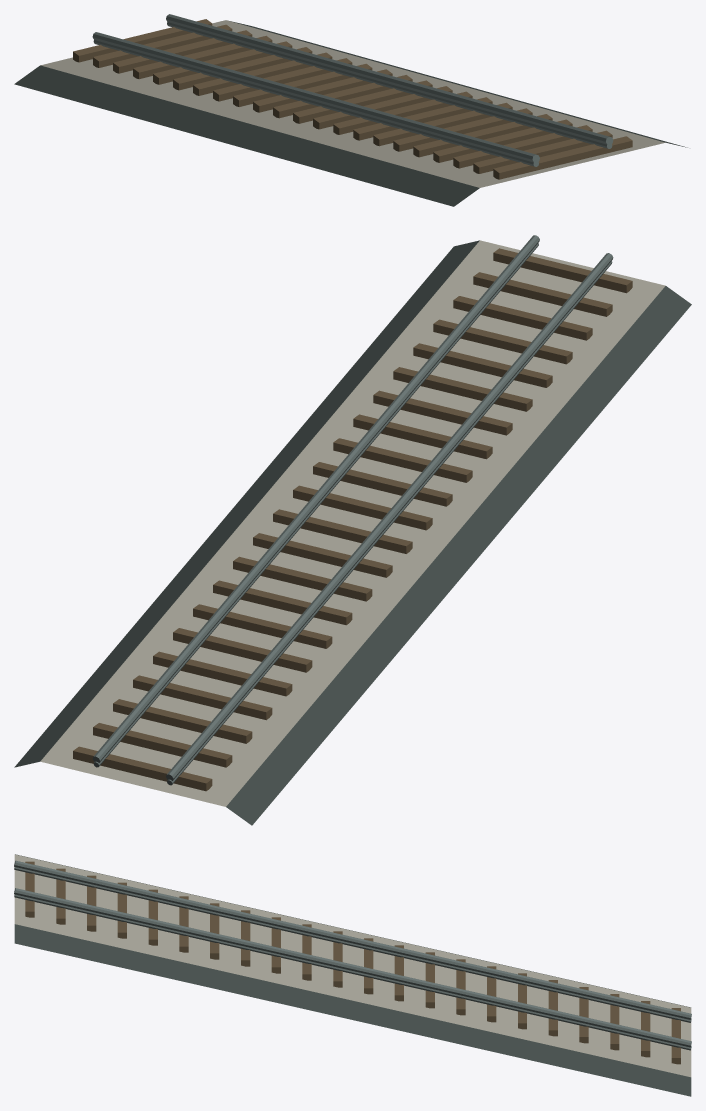
Rendered from XBLD061.glb.
The picture shows the model from 3 angles, top to bottom: view 1: azimuth 30°, elevation 25°; view 2: azimuth 150°, elevation 25°; view 3: azimuth 270°, elevation 25°; orthographic projection. The views are drawn at different scales.
Visible parts, largest first — view 1: 완만한 철도 경사 B; view 2: 완만한 철도 경사 B; view 3: 완만한 철도 경사 B.
Boxes of the visible parts, x1,y1,x2,y2 form: 완만한 철도 경사 B: [14, 14, 687, 206]; 완만한 철도 경사 B: [14, 235, 691, 825]; 완만한 철도 경사 B: [14, 854, 691, 1096].
Size of the model in its own units: 5 by 4.64 by 16.04.
